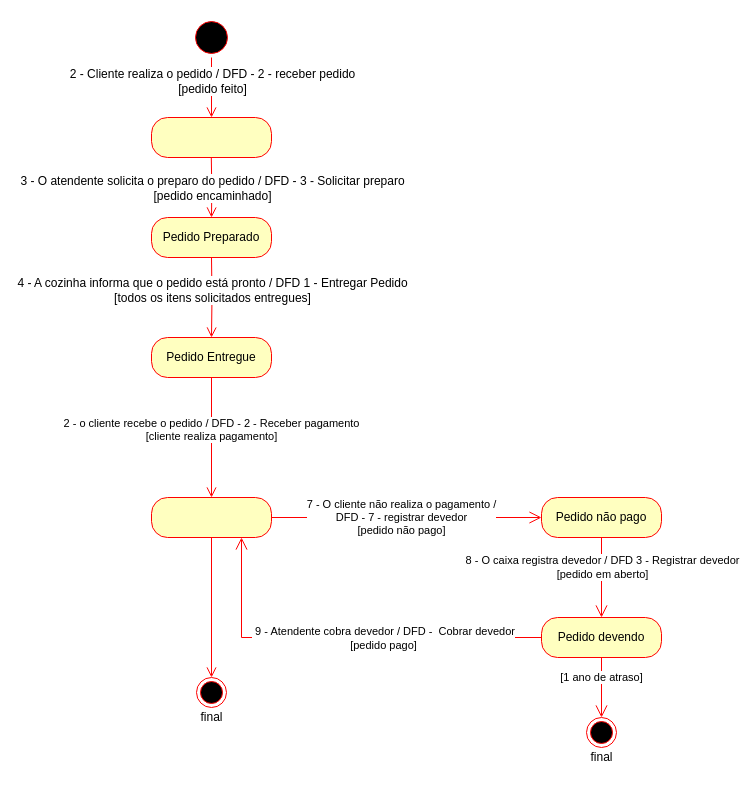
The diagram is 756 pixels wide and 785 high, and some of its shapes have lost their labels. The shapes that lost their labels are listed below. From the top down, each one's box as (x1, y1, x2, y2) in pixels, then its label:
(150, 116, 272, 158): Pedido Cadastrado
(150, 496, 272, 538): Pedido Pago
